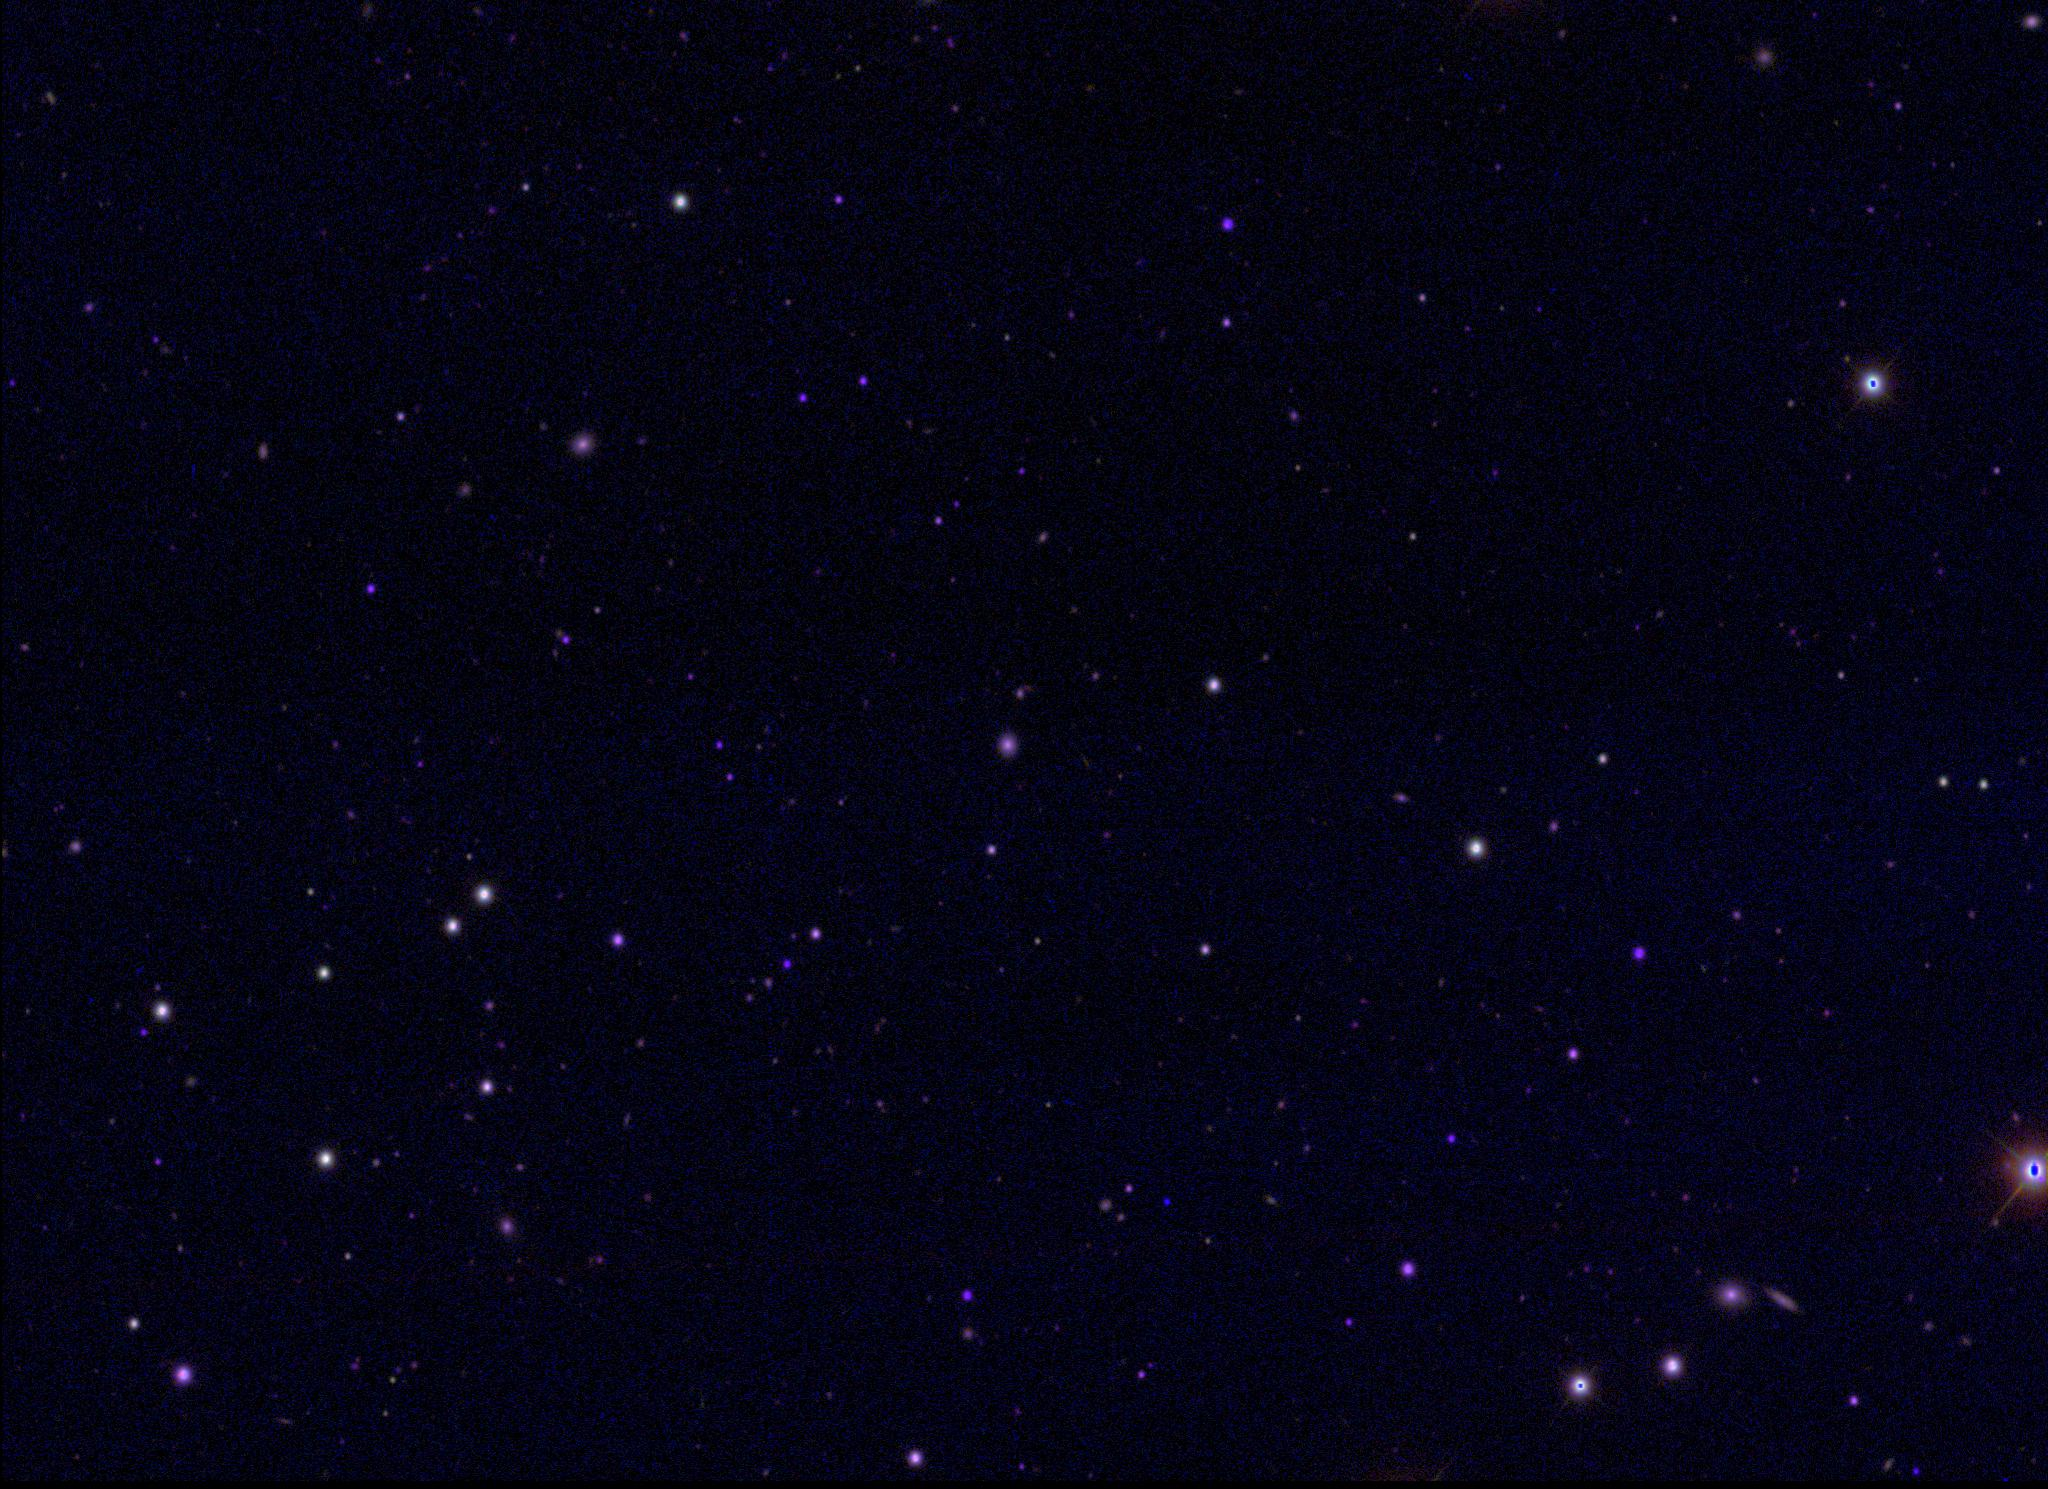L: (1161, 1192, 1175, 1204)
